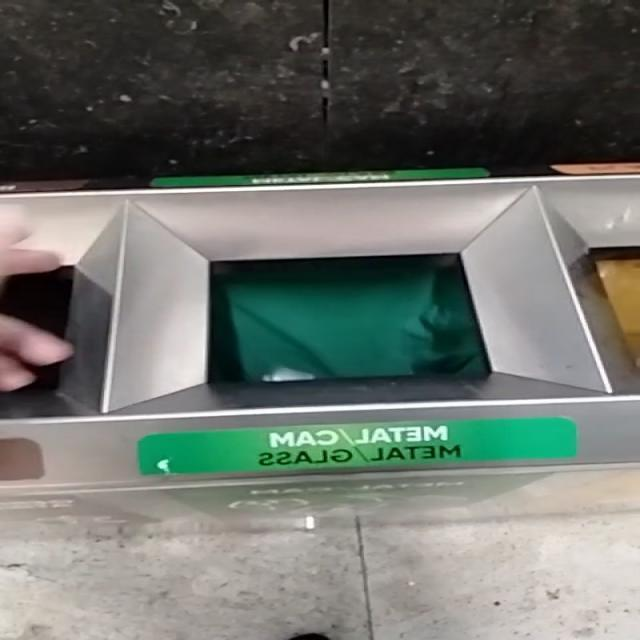Metal: (263, 368, 315, 383)
